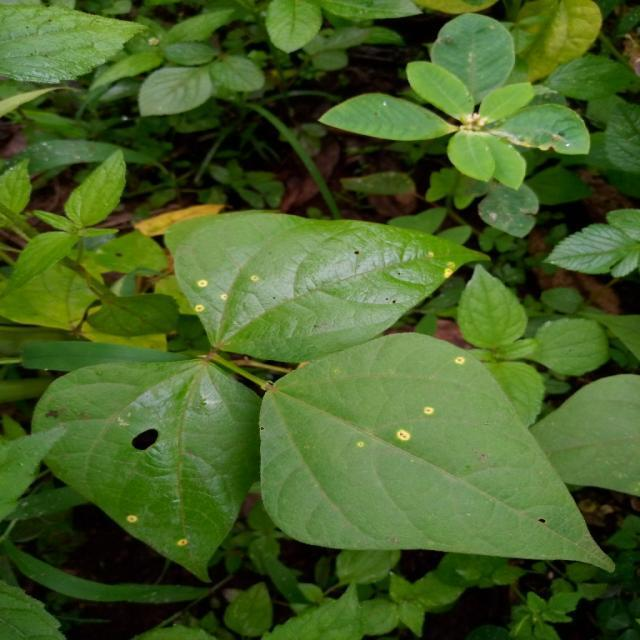hawar: (105, 392, 236, 576), (334, 379, 520, 478)
